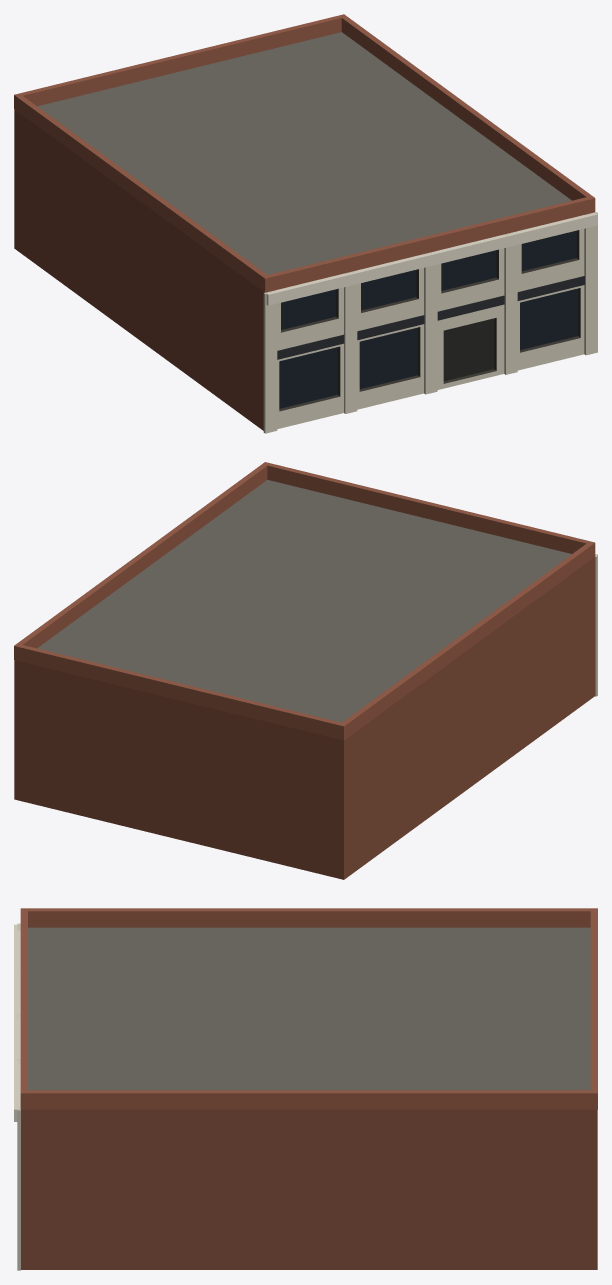
The model's file is bank-1913-b13314.glb.
3 views of the same model, one above another, from view 1: azimuth 30°, elevation 25°; view 2: azimuth 150°, elevation 25°; view 3: azimuth 270°, elevation 25° (orthographic). The views are drawn at different scales.
Parts seen in each view (by area): view 1: kit-bank-1913-b13314; view 2: kit-bank-1913-b13314; view 3: kit-bank-1913-b13314.
Part boxes in pixels (x1=…): kit-bank-1913-b13314: x1=14, y1=14, x2=597, y2=433; kit-bank-1913-b13314: x1=14, y1=462, x2=597, y2=879; kit-bank-1913-b13314: x1=14, y1=908, x2=597, y2=1270.
Bounding box in the file's own units: 22.2 × 9.8 × 29.37.
